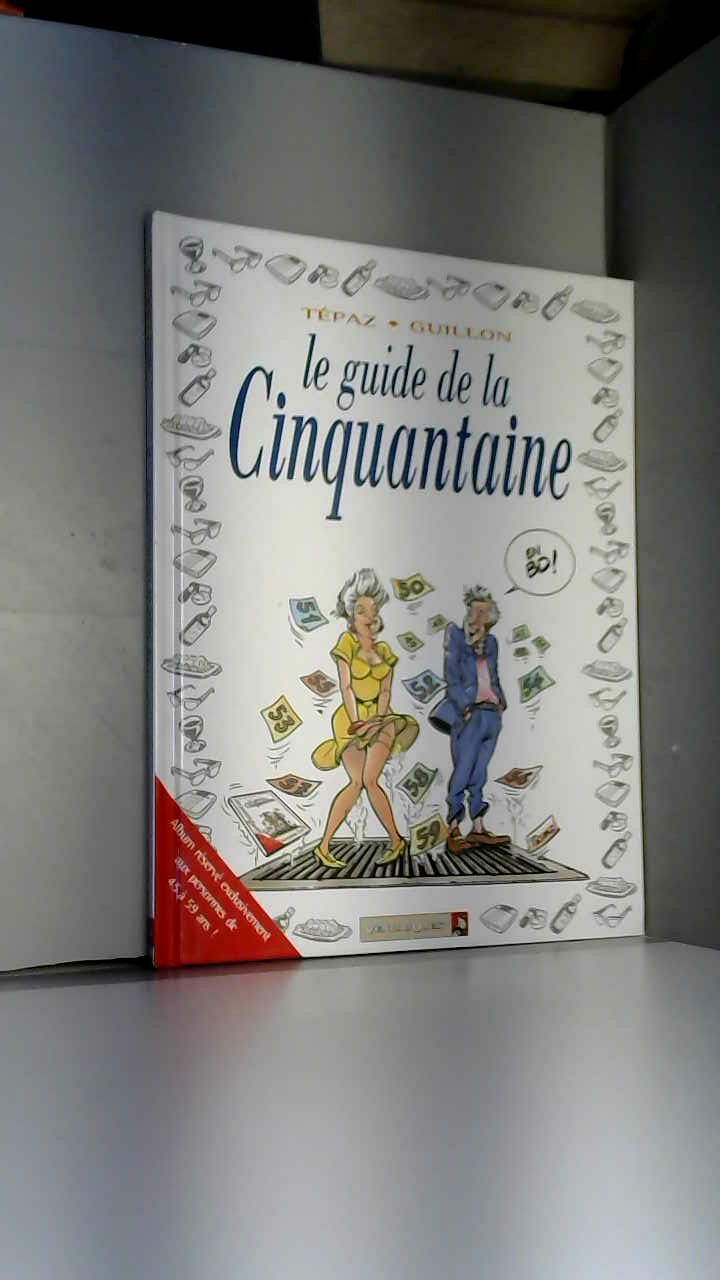book: (114, 182, 681, 1003)
